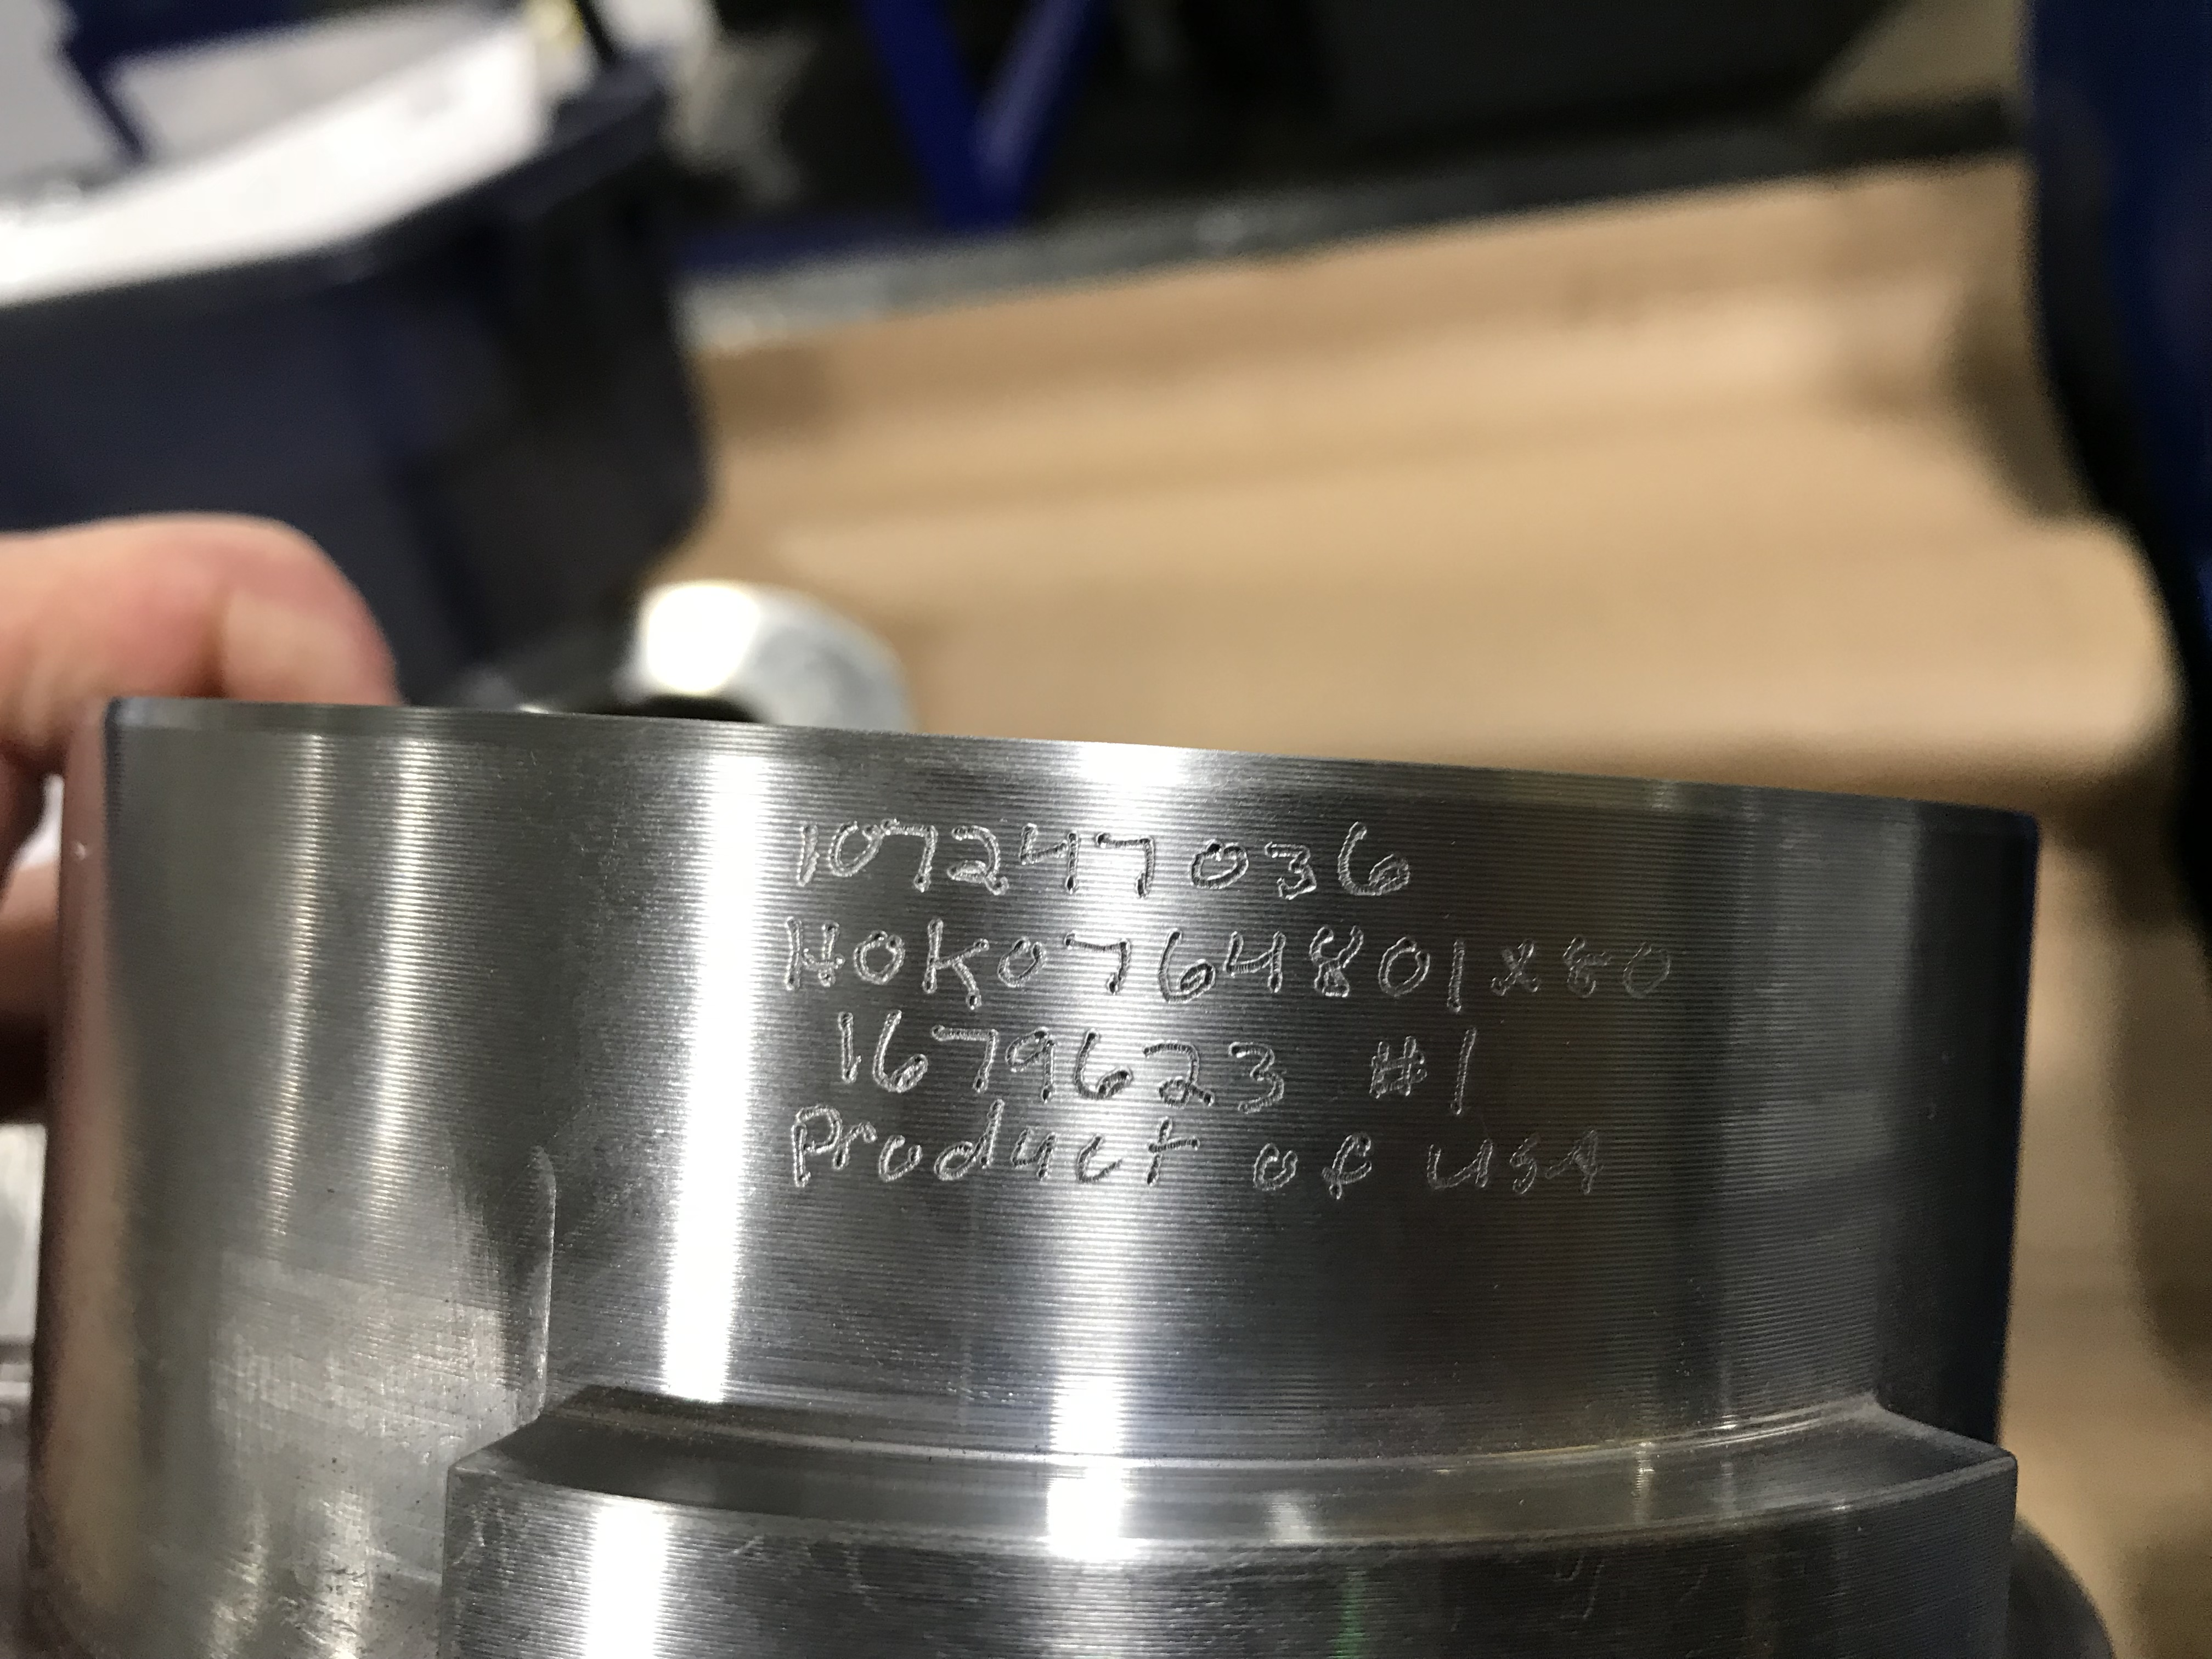character: (1336, 802, 1426, 906), (925, 915, 993, 1014), (932, 1096, 1008, 1180), (1141, 1033, 1221, 1110), (1059, 924, 1139, 1000), (1134, 1114, 1211, 1190), (1085, 826, 1163, 901), (928, 1019, 1003, 1098), (1420, 1131, 1501, 1202), (777, 1101, 843, 1187), (871, 1004, 930, 1098), (946, 817, 1012, 901), (1221, 1037, 1292, 1114), (1313, 1124, 1378, 1206), (779, 910, 843, 992), (1017, 816, 1083, 894), (1153, 925, 1219, 1004), (1310, 917, 1366, 1007), (1184, 824, 1247, 903), (1221, 927, 1291, 995), (1068, 1025, 1132, 1098), (853, 915, 913, 993), (881, 814, 939, 894), (1001, 1025, 1064, 1098), (1259, 828, 1320, 901), (1557, 1127, 1611, 1206), (1623, 936, 1683, 1007), (824, 1004, 871, 1087), (1555, 932, 1608, 1007), (1367, 1032, 1425, 1100), (1376, 934, 1433, 1000), (1068, 1126, 1125, 1188), (1249, 1133, 1301, 1201), (996, 925, 1049, 993), (829, 816, 881, 884), (1446, 1023, 1484, 1114), (1501, 1131, 1548, 1201), (1440, 932, 1477, 1019), (1012, 1119, 1061, 1182), (834, 1115, 881, 1180), (1493, 936, 1538, 1002), (880, 1131, 923, 1190), (791, 817, 822, 885)
